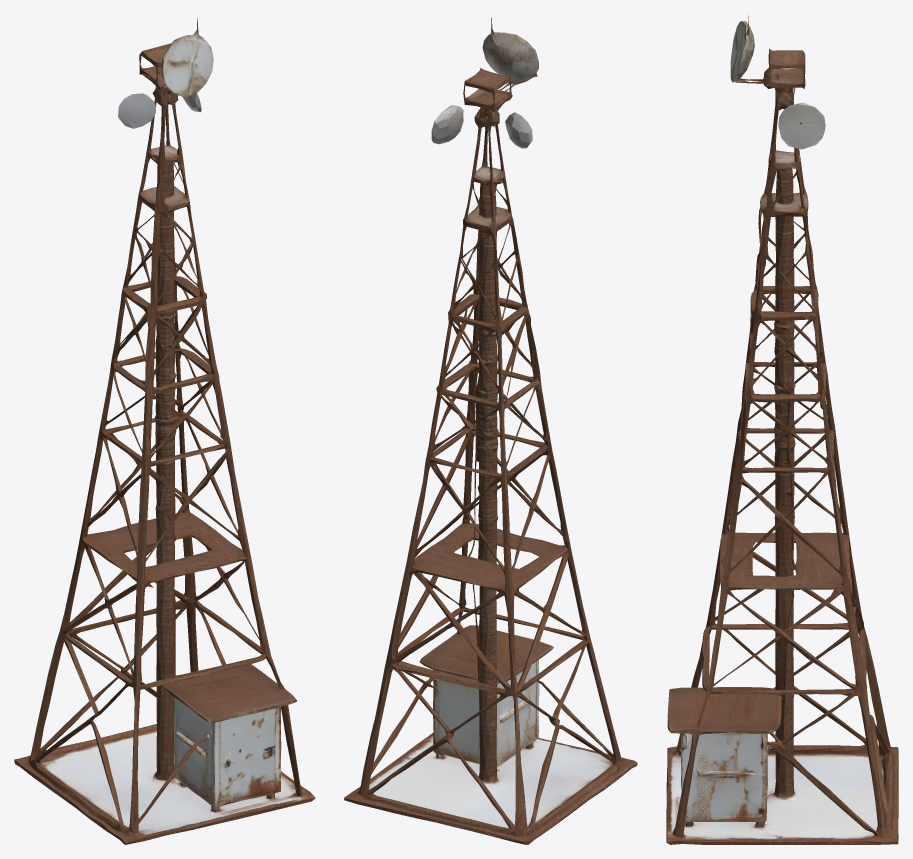
Rendered from comms_tower.glb.
The picture shows the model from 3 angles, left to right: view 1: azimuth 30°, elevation 25°; view 2: azimuth 150°, elevation 25°; view 3: azimuth 270°, elevation 25°; orthographic projection. The views are drawn at different scales.
Visible parts, largest first — view 1: comms_tower; view 2: comms_tower; view 3: comms_tower.
Boxes of the visible parts, x1,y1,x2,y2 form: comms_tower: (14,18,315,844); comms_tower: (344,17,637,844); comms_tower: (666,15,898,844).
Bounding box in the file's own units: 6.4 × 25 × 6.65.
1 material, 1 textured.
